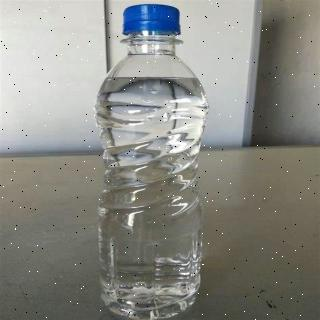Plastic-bottle: (91, 1, 215, 320)
